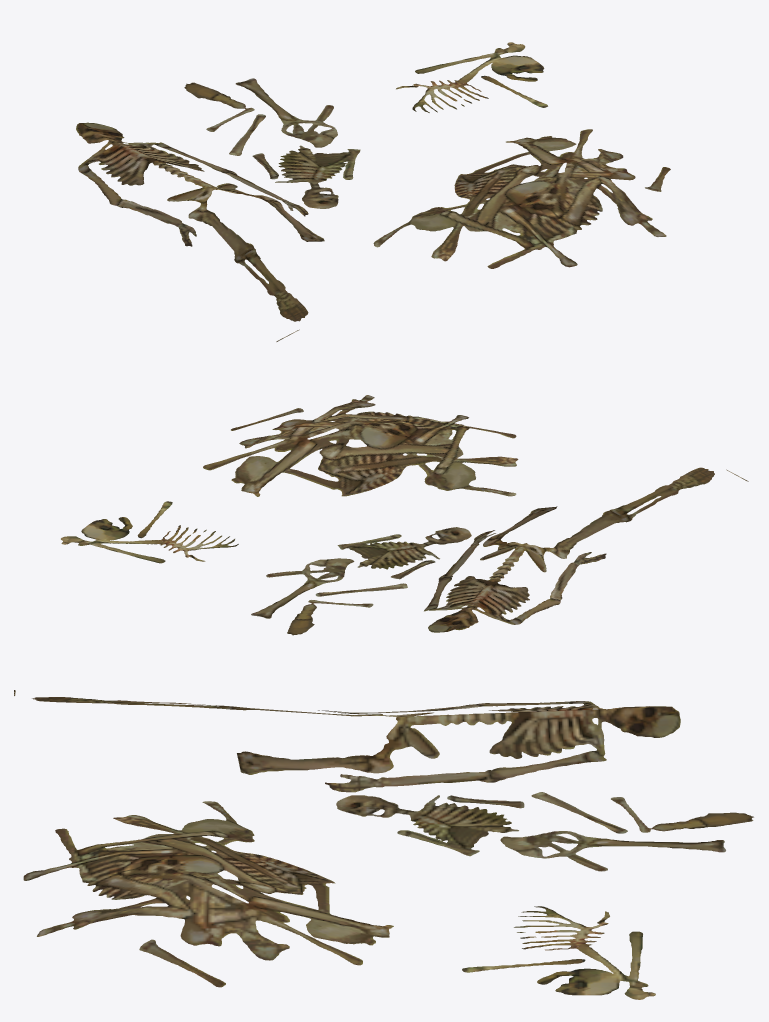
File: 2_Misc_KuLou_01.FBX
3 renders of one model, top to bottom at view 1: azimuth 30°, elevation 25°; view 2: azimuth 150°, elevation 25°; view 3: azimuth 270°, elevation 25°, orthographic. The views are drawn at different scales.
Visible parts, largest first — view 1: 2_Misc_KuLou_01_01, 2_Misc_KuLou_01_02, 2_Misc_KuLou_01_03, 2_Misc_KuLou_01_04; view 2: 2_Misc_KuLou_01_01, 2_Misc_KuLou_01_02, 2_Misc_KuLou_01_03, 2_Misc_KuLou_01_04; view 3: 2_Misc_KuLou_01_01, 2_Misc_KuLou_01_02, 2_Misc_KuLou_01_03, 2_Misc_KuLou_01_04.
Part boxes in pixels (x1=…): 2_Misc_KuLou_01_01: x1=373, y1=129, x2=670, y2=268; 2_Misc_KuLou_01_02: x1=76, y1=122, x2=324, y2=341; 2_Misc_KuLou_01_03: x1=184, y1=78, x2=360, y2=208; 2_Misc_KuLou_01_04: x1=396, y1=42, x2=547, y2=112; 2_Misc_KuLou_01_01: x1=203, y1=395, x2=518, y2=496; 2_Misc_KuLou_01_02: x1=424, y1=467, x2=748, y2=632; 2_Misc_KuLou_01_03: x1=251, y1=527, x2=471, y2=635; 2_Misc_KuLou_01_04: x1=61, y1=501, x2=238, y2=563; 2_Misc_KuLou_01_01: x1=23, y1=801, x2=393, y2=987; 2_Misc_KuLou_01_02: x1=14, y1=690, x2=680, y2=792; 2_Misc_KuLou_01_03: x1=336, y1=792, x2=753, y2=871; 2_Misc_KuLou_01_04: x1=462, y1=906, x2=655, y2=999.
Size of the model in its own units: 406 by 21.95 by 398.
Materials: 1 (1 with a texture image).
